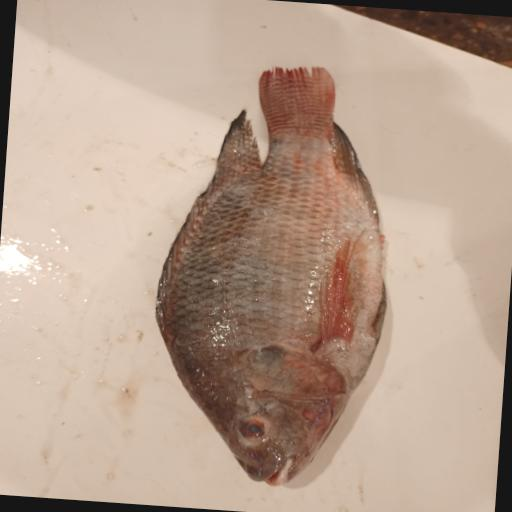Tilapia: (143, 56, 403, 493)
